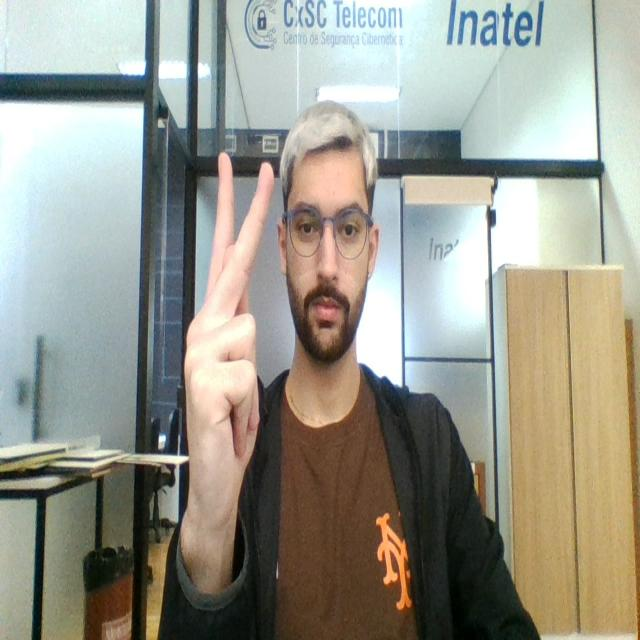K: (184, 132, 273, 496)
